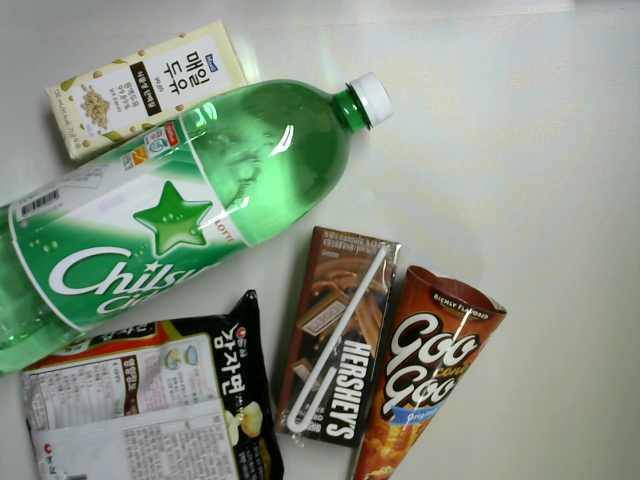99.89_Soymilk: (44, 15, 260, 170)
Chilseong_Cider_1.5L: (1, 62, 400, 386)
GooGoo_Cone_CVS: (344, 259, 510, 480)
Hush_Choco_Drink: (270, 218, 405, 454)
Potato: (13, 283, 291, 480)
